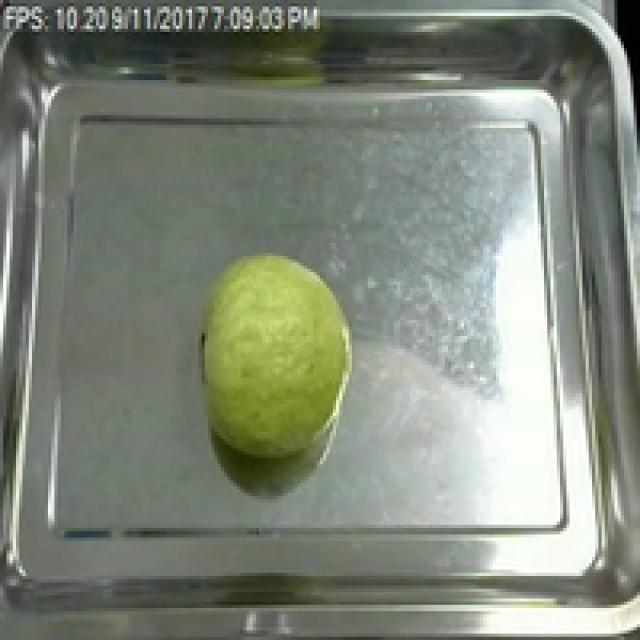Fruit: (192, 243, 362, 467)
